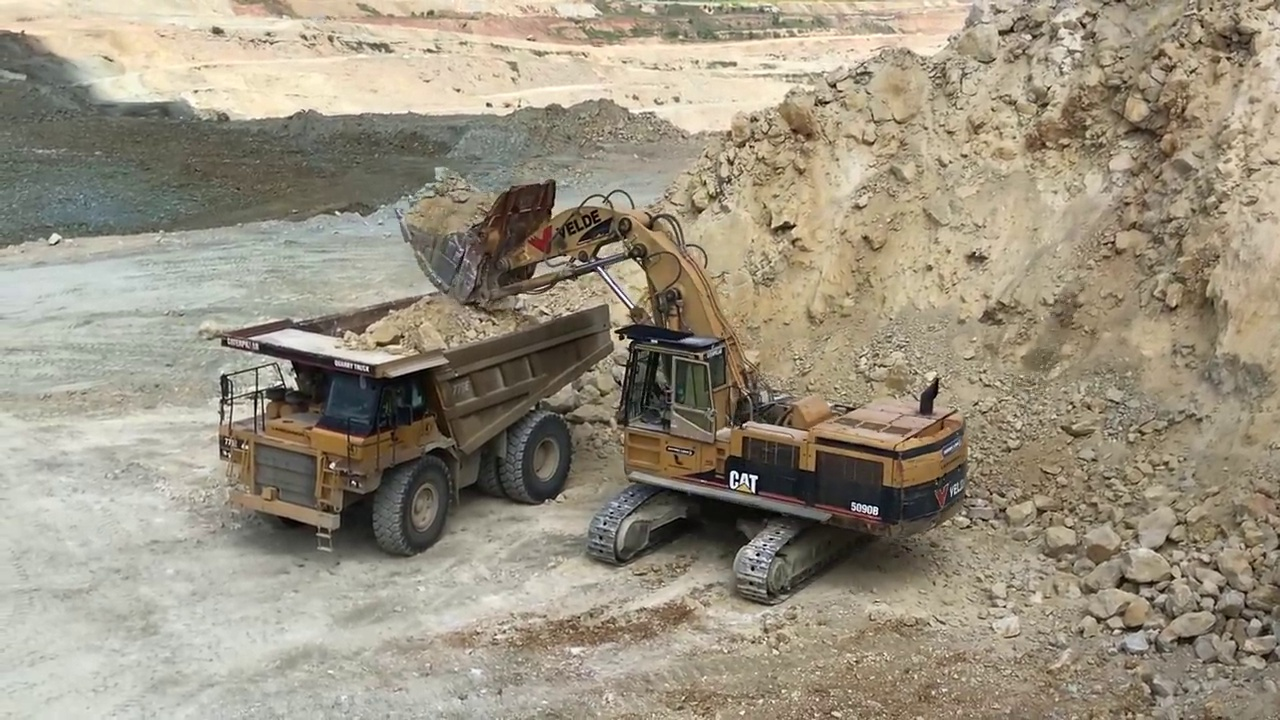truck: (216, 287, 618, 557)
wheel loader: (394, 154, 974, 607)
